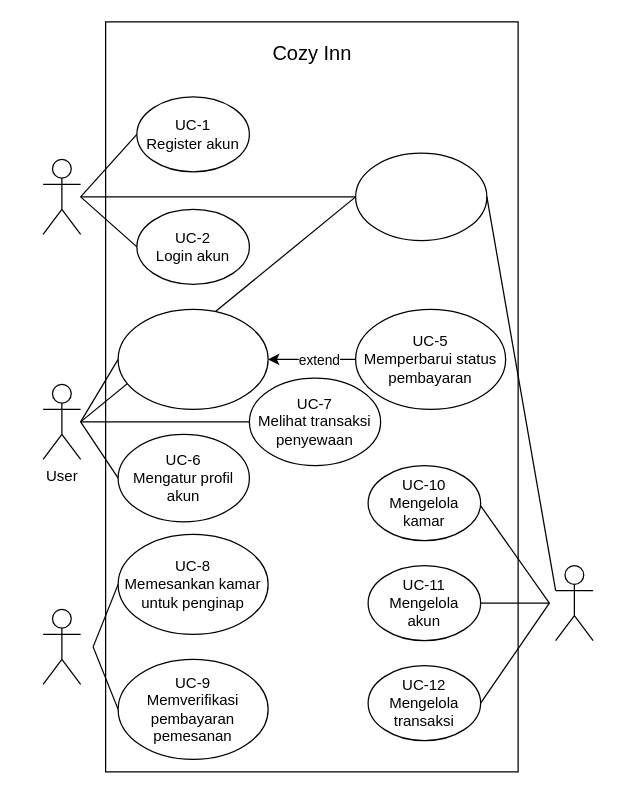
This 618x794 diagram has some shape labels left out. The box of each missing label's shape, as (x1, y1, x2, y2) in pixels:
Admin: (554, 564, 593, 641)
Pengunjung: (42, 158, 81, 234)
Resepsionis: (42, 608, 81, 684)
UC-3 Melihat kamar yang tersedia: (354, 152, 487, 241)
UC-4 Memesan kamar yang tersedia: (117, 308, 268, 409)
